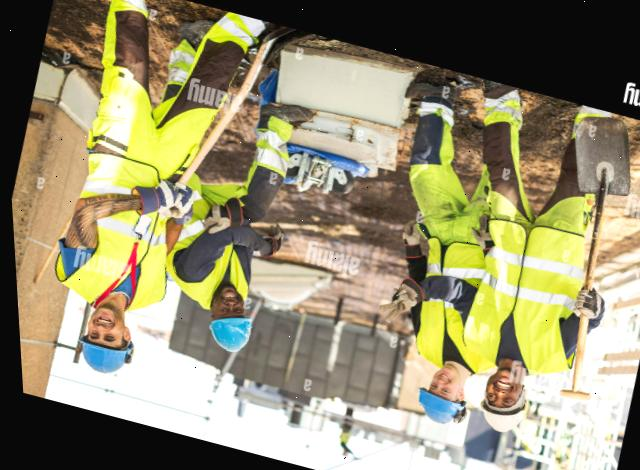helmet: (65, 332, 133, 378), (196, 311, 254, 357), (467, 393, 524, 436), (407, 385, 459, 425)
vest: (451, 210, 593, 376), (54, 156, 186, 309), (394, 237, 503, 373), (155, 204, 266, 308)
